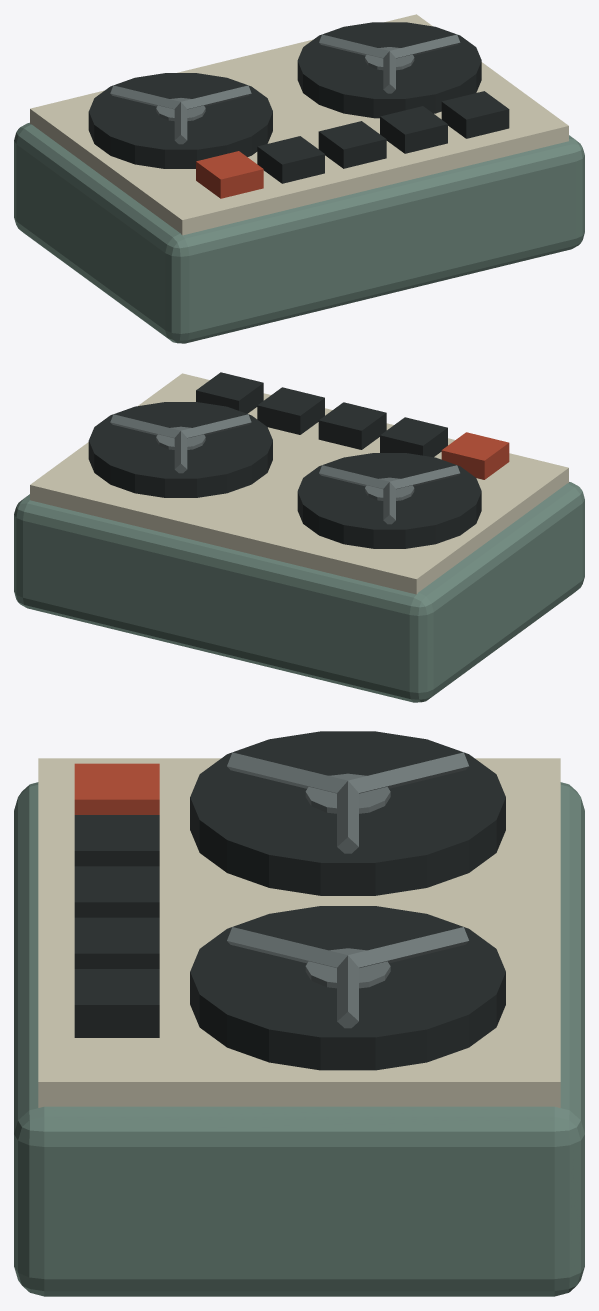
The model's file is recorder.glb.
The picture shows the model from 3 angles, top to bottom: view 1: azimuth 30°, elevation 25°; view 2: azimuth 150°, elevation 25°; view 3: azimuth 270°, elevation 25°; orthographic projection. The views are drawn at different scales.
Visible parts, largest first — view 1: recorder; view 2: recorder; view 3: recorder.
Boxes of the visible parts, <box> form: recorder: <box>14,14,584,343</box>; recorder: <box>14,372,584,702</box>; recorder: <box>14,731,584,1296</box>.
Size of the model in its own units: 0.68 by 0.24 by 0.47.
